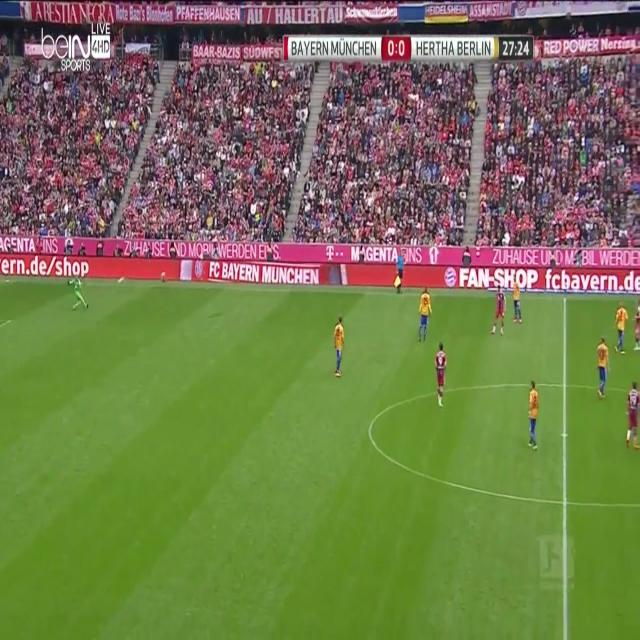Ball: (116, 275, 124, 286)
Goalkeeper: (66, 270, 92, 314)
Player: (330, 314, 348, 382), (624, 381, 640, 456), (525, 379, 540, 455), (595, 334, 611, 402), (417, 284, 434, 346), (488, 284, 506, 342), (434, 339, 448, 412), (614, 301, 628, 358), (512, 275, 524, 329), (633, 301, 640, 353)
Referee: (393, 250, 404, 300)
